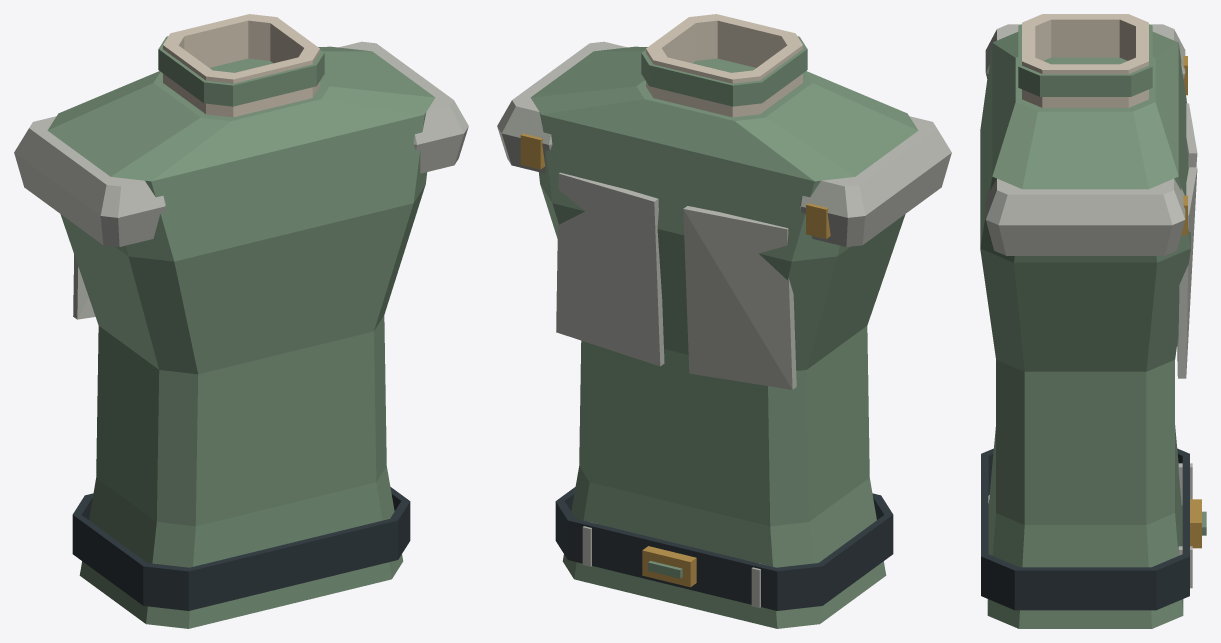
Rendered from visual-far.glb.
3 views of the same model, side by side, from view 1: azimuth 30°, elevation 25°; view 2: azimuth 150°, elevation 25°; view 3: azimuth 270°, elevation 25° (orthographic).
Visible parts, largest first — view 1: 现有程序躯干 · 同用途配色; view 2: 现有程序躯干 · 同用途配色; view 3: 现有程序躯干 · 同用途配色.
Boxes of the visible parts, x1=… form: 现有程序躯干 · 同用途配色: x1=14, y1=14, x2=468, y2=628; 现有程序躯干 · 同用途配色: x1=497, y1=14, x2=951, y2=628; 现有程序躯干 · 同用途配色: x1=980, y1=14, x2=1206, y2=628.
Size of the model in its own units: 0.458 by 0.62 by 0.243.
Materials: 5 (5 with a texture image).
